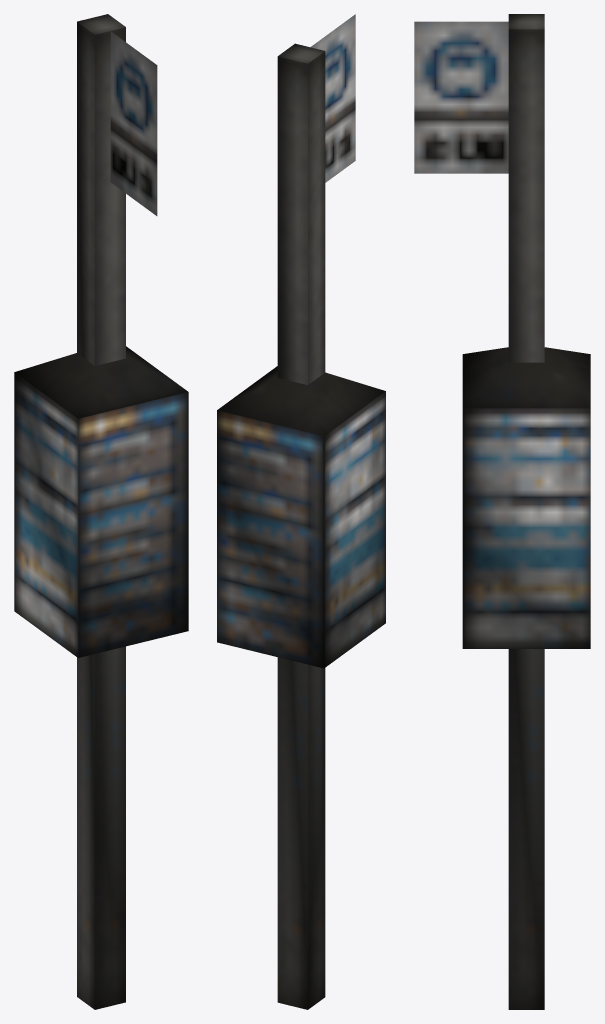
Rendered from busstoppost.fbx.
3 renders of one model, left to right at view 1: azimuth 30°, elevation 25°; view 2: azimuth 150°, elevation 25°; view 3: azimuth 270°, elevation 25°, orthographic. The views are drawn at different scales.
Parts seen in each view (by area): view 1: busstoppost; view 2: busstoppost; view 3: busstoppost.
Part boxes in pixels (left/top/right/bottom): busstoppost: left=14, top=14, right=188, bottom=1009; busstoppost: left=217, top=14, right=385, bottom=1009; busstoppost: left=414, top=14, right=590, bottom=1009.
Size of the model in its own units: 38.15 by 52.56 by 322.
1 material, 1 textured.
